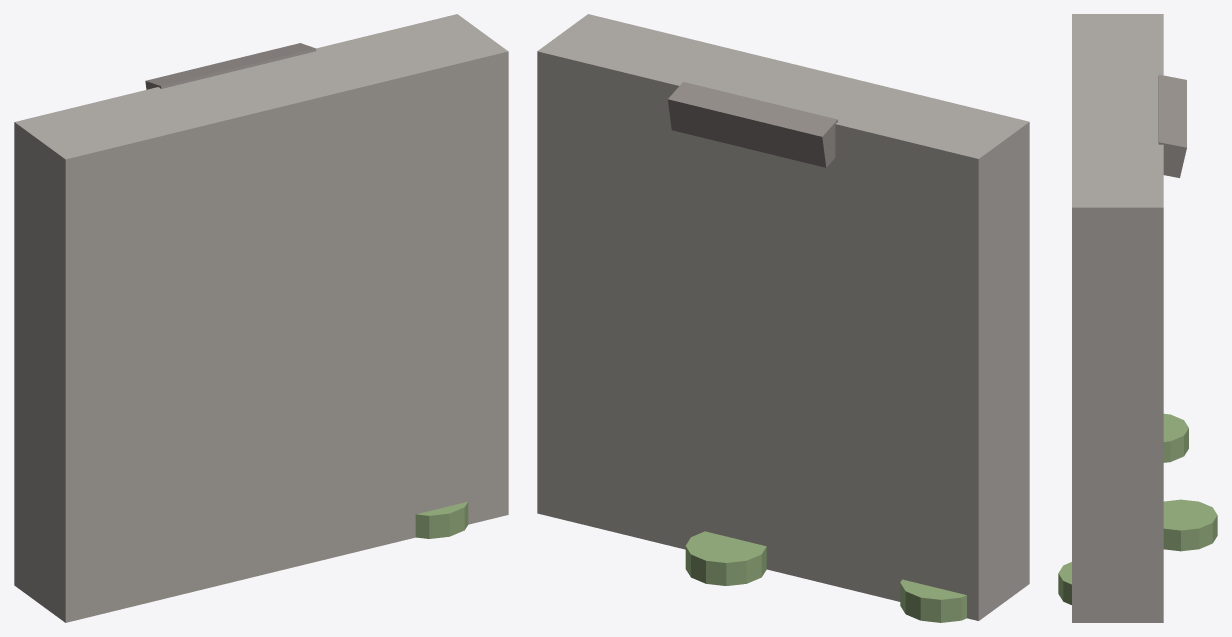
Rendered from 27-Islas-Ubicaciones_cascada.glb.
3 renders of one model, left to right at view 1: azimuth 30°, elevation 25°; view 2: azimuth 150°, elevation 25°; view 3: azimuth 270°, elevation 25°, orthographic. The views are drawn at different scales.
Parts seen in each view (by area): view 1: SM_Cascada_M_Cascada_Roca, SM_Cascada_M_Cascada_Roca_Osc, SM_Cascada_M_Cascada_Musgo; view 2: SM_Cascada_M_Cascada_Roca, SM_Cascada_M_Cascada_Roca_Osc, SM_Cascada_M_Cascada_Musgo; view 3: SM_Cascada_M_Cascada_Roca, SM_Cascada_M_Cascada_Musgo, SM_Cascada_M_Cascada_Roca_Osc.
Boxes of the visible parts, x1,y1,x2,y2 form: SM_Cascada_M_Cascada_Roca: (14, 14, 508, 622); SM_Cascada_M_Cascada_Roca_Osc: (145, 43, 316, 89); SM_Cascada_M_Cascada_Musgo: (415, 501, 468, 538); SM_Cascada_M_Cascada_Roca: (537, 14, 1029, 620); SM_Cascada_M_Cascada_Roca_Osc: (667, 82, 837, 167); SM_Cascada_M_Cascada_Musgo: (685, 531, 966, 622); SM_Cascada_M_Cascada_Roca: (1072, 14, 1163, 622); SM_Cascada_M_Cascada_Musgo: (1058, 413, 1217, 604); SM_Cascada_M_Cascada_Roca_Osc: (1158, 74, 1186, 177).
Bounding box in the file's own units: 4 × 4.02 × 1.39.
